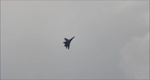maybay_muctieu: (62, 33, 75, 50)
